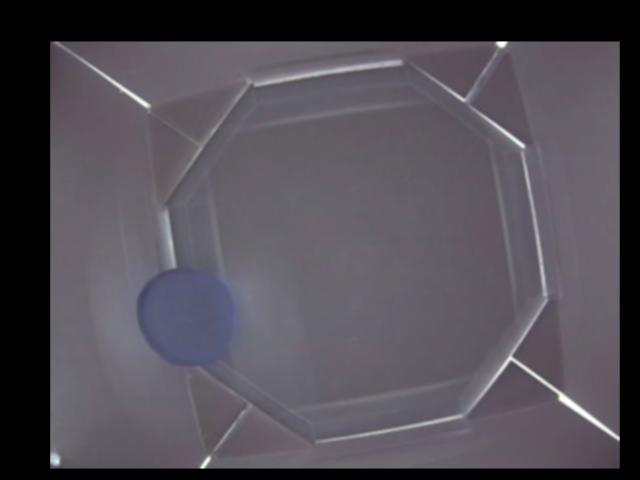Mooli: (135, 269, 236, 365)
